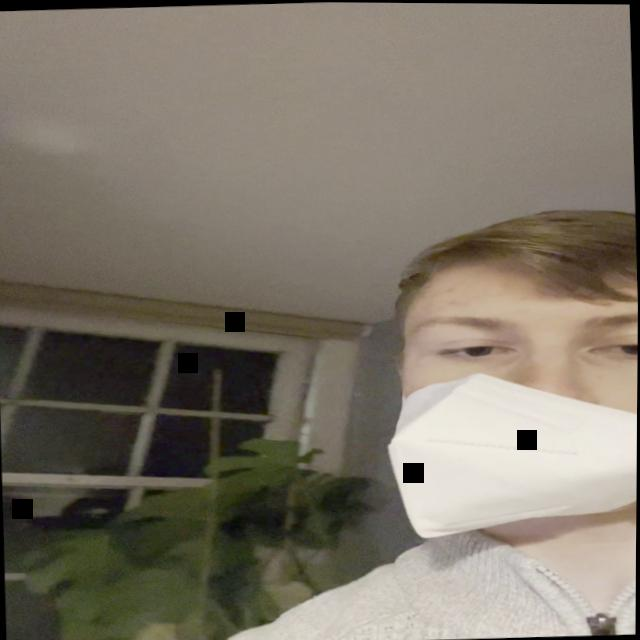NO-Mask: (369, 196, 639, 572)
